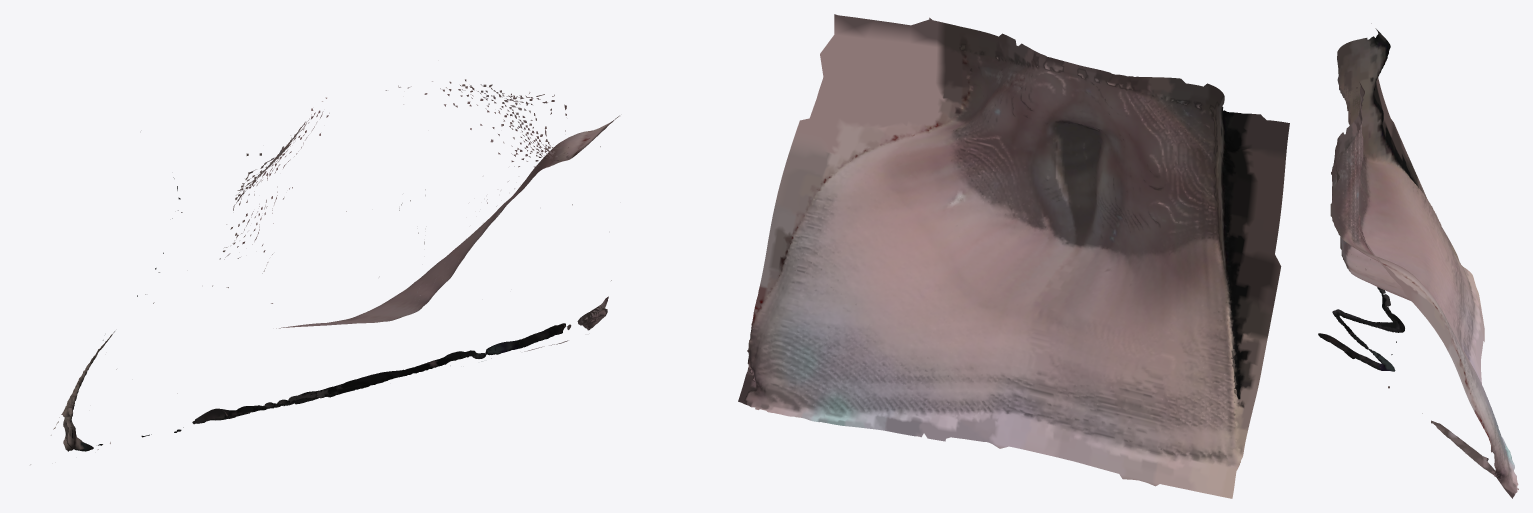
3 renders of one model, left to right at view 1: azimuth 30°, elevation 25°; view 2: azimuth 150°, elevation 25°; view 3: azimuth 270°, elevation 25°, orthographic. The views are drawn at different scales.
Bounding box in the file's own units: 0.00138 × 0.00093 × 0.000583.
